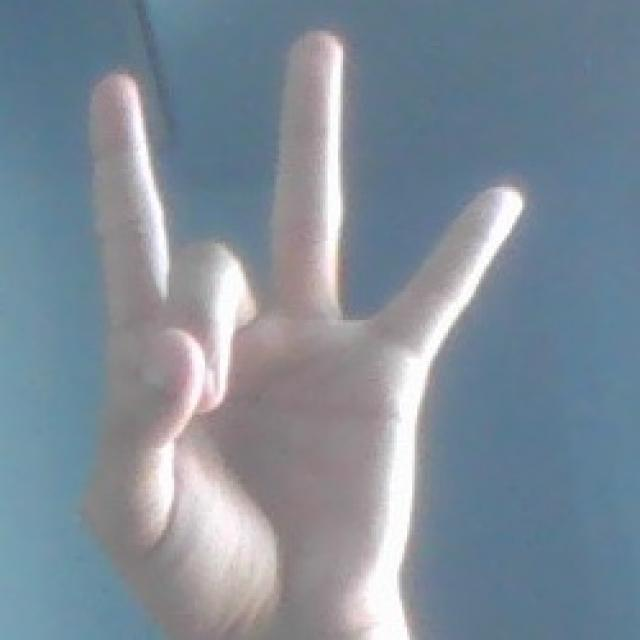Numeric-8: (89, 13, 538, 614)
